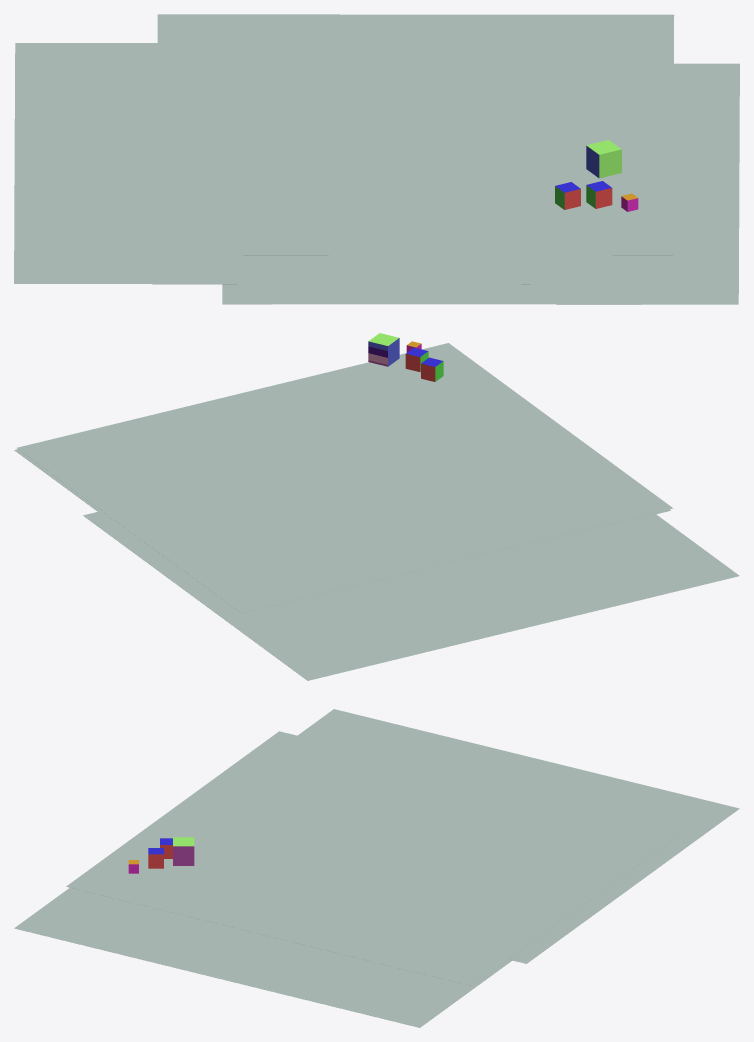
File: city-map-test-models.glb
3 views of the same model, one above another, from view 1: azimuth 30°, elevation 25°; view 2: azimuth 150°, elevation 25°; view 3: azimuth 270°, elevation 25° (orthographic). The views are drawn at different scales.
Visible parts, largest first — view 1: grass, grass.001, walk, textureCube, cube.001, cube; view 2: grass, grass.001, textureCube; view 3: grass, walk, grass.001, textureCube.
Boxes of the visible parts, <box> form: grass: <box>156,14,674,255</box>; grass.001: <box>14,43,530,284</box>; walk: <box>222,63,739,304</box>; textureCube: <box>586,140,621,178</box>; cube.001: <box>586,181,612,208</box>; cube: <box>555,182,580,209</box>; grass: <box>17,343,673,613</box>; grass.001: <box>83,511,739,680</box>; textureCube: <box>368,333,399,366</box>; grass: <box>66,731,684,985</box>; walk: <box>14,887,512,1027</box>; grass.001: <box>298,709,739,963</box>; textureCube: <box>173,837,194,865</box>.
Bounding box in the file's own units: 1536 × 169 × 1508.
7 materials, 1 textured.
